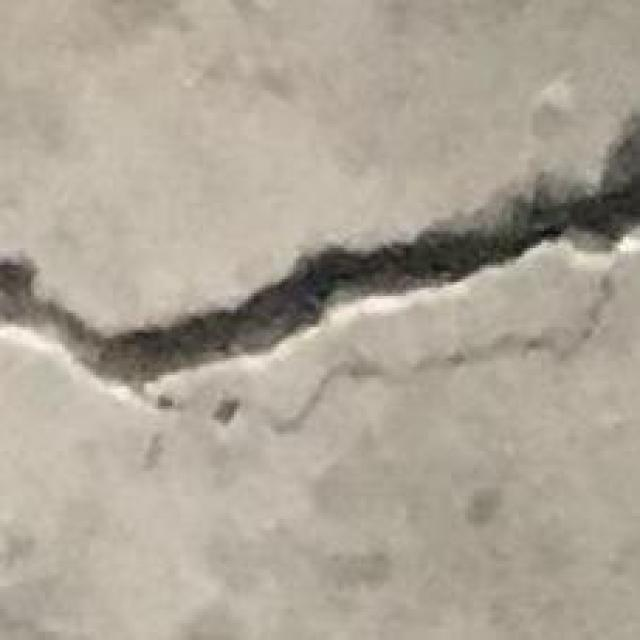curved crack: (0, 118, 639, 389)
